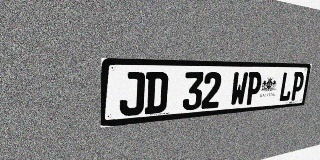2: (201, 72, 222, 109)
3: (182, 72, 204, 111)
D: (144, 72, 169, 114)
J: (119, 72, 145, 117)
L: (278, 72, 294, 102)
P: (245, 72, 263, 105), (290, 72, 305, 101)
W: (229, 72, 249, 106)
